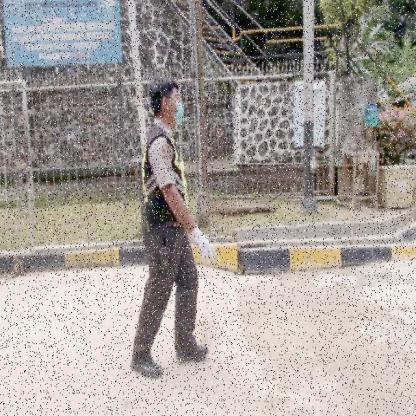boots: (128, 355, 165, 382), (174, 342, 212, 364)
gloves: (188, 222, 218, 266)
mask: (175, 102, 184, 127)
